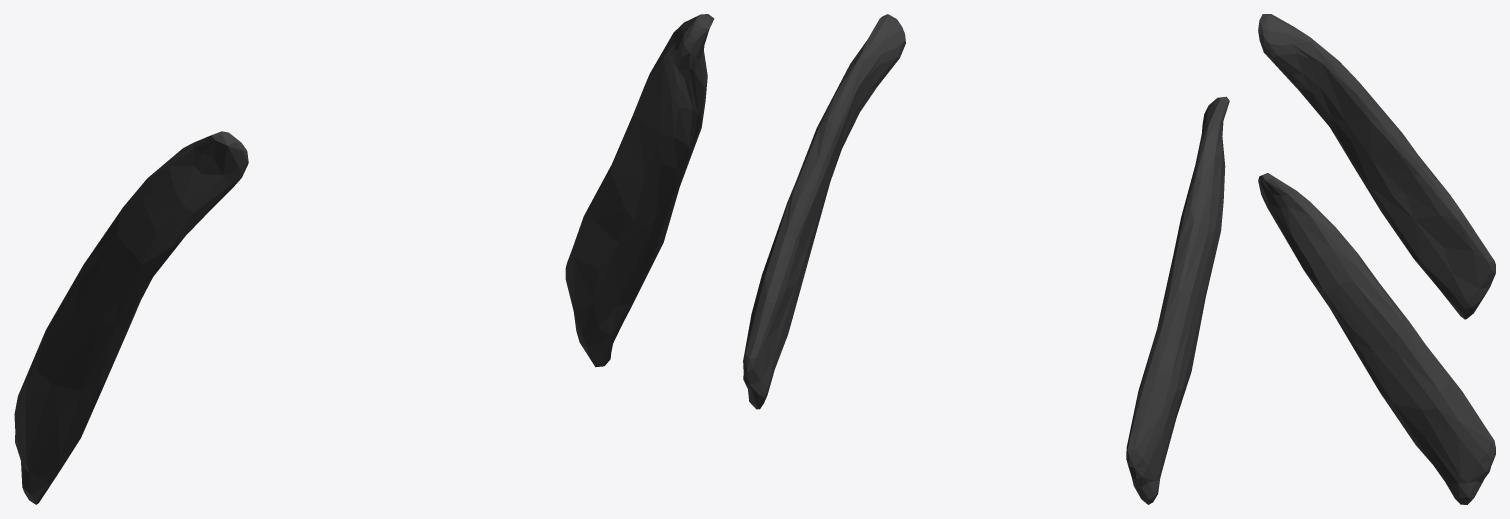
The model's file is m_parotidoauricularis.glb.
3 renders of one model, left to right at view 1: azimuth 30°, elevation 25°; view 2: azimuth 150°, elevation 25°; view 3: azimuth 270°, elevation 25°, orthographic. The views are drawn at different scales.
Parts seen in each view (by area): view 1: m_parotidoauricularis; view 2: m_parotidoauricularis; view 3: m_parotidoauricularis.
Part boxes in pixels (box(x1,y1,x2,y2)): m_parotidoauricularis: box(14, 14, 714, 504); m_parotidoauricularis: box(743, 14, 1229, 504); m_parotidoauricularis: box(1258, 14, 1495, 504).
Size of the model in its own units: 0.00297 by 0.00222 by 0.00151.
1 material, 1 textured.
